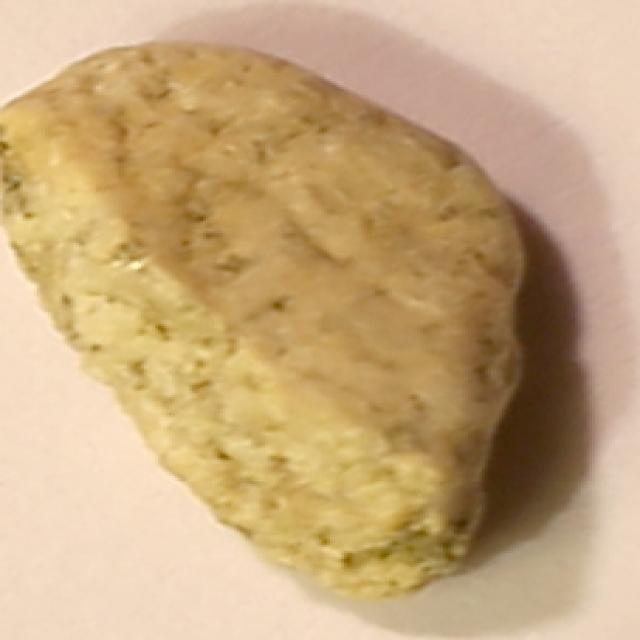stone: (0, 3, 544, 602)
